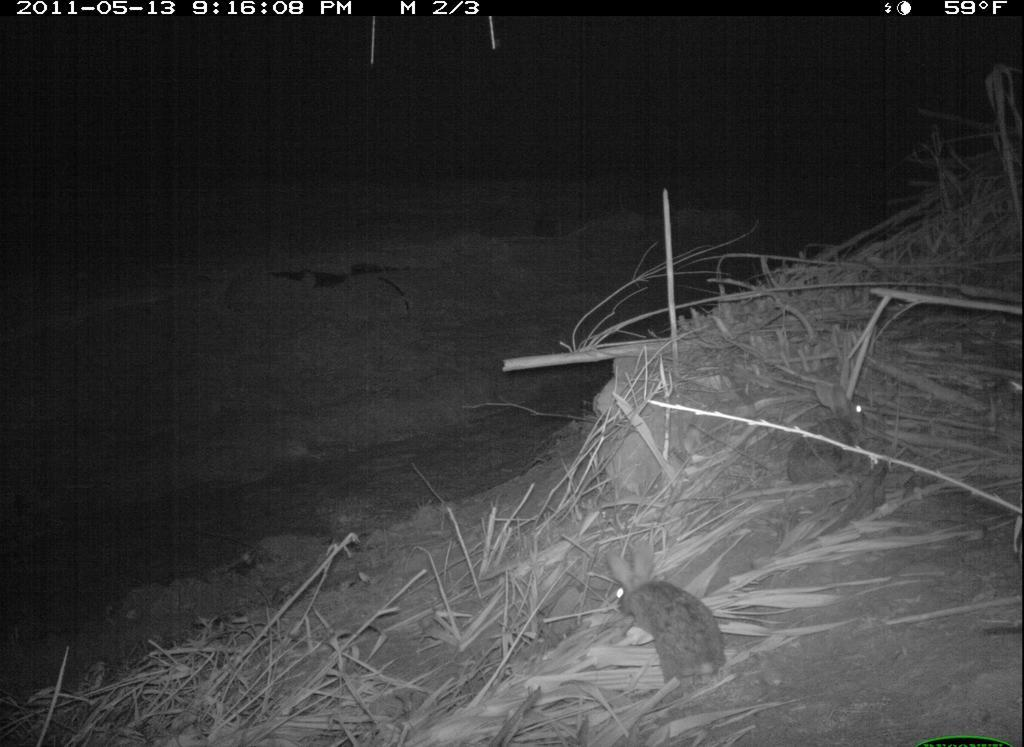rabbit: (584, 537, 738, 697), (782, 378, 877, 491)
